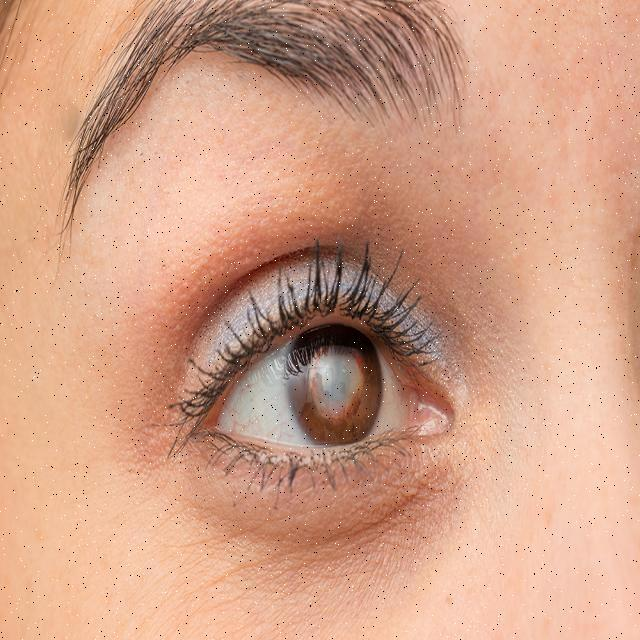Cataract: (279, 310, 387, 446)
